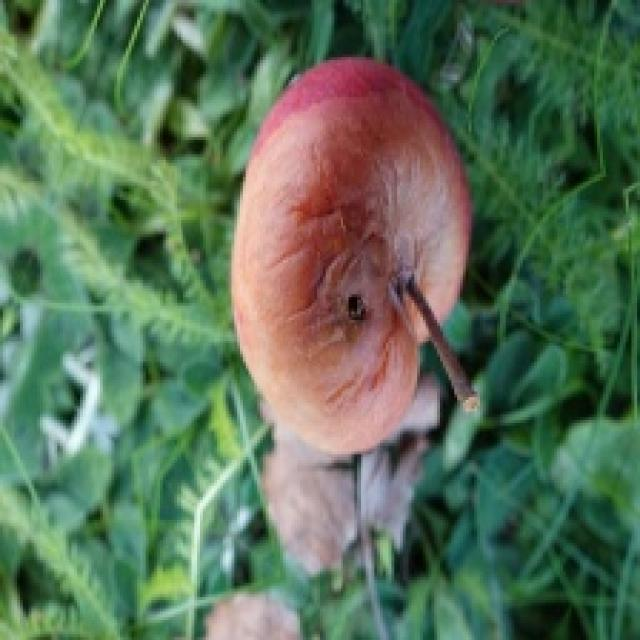rotten_apple: (246, 60, 468, 451)
